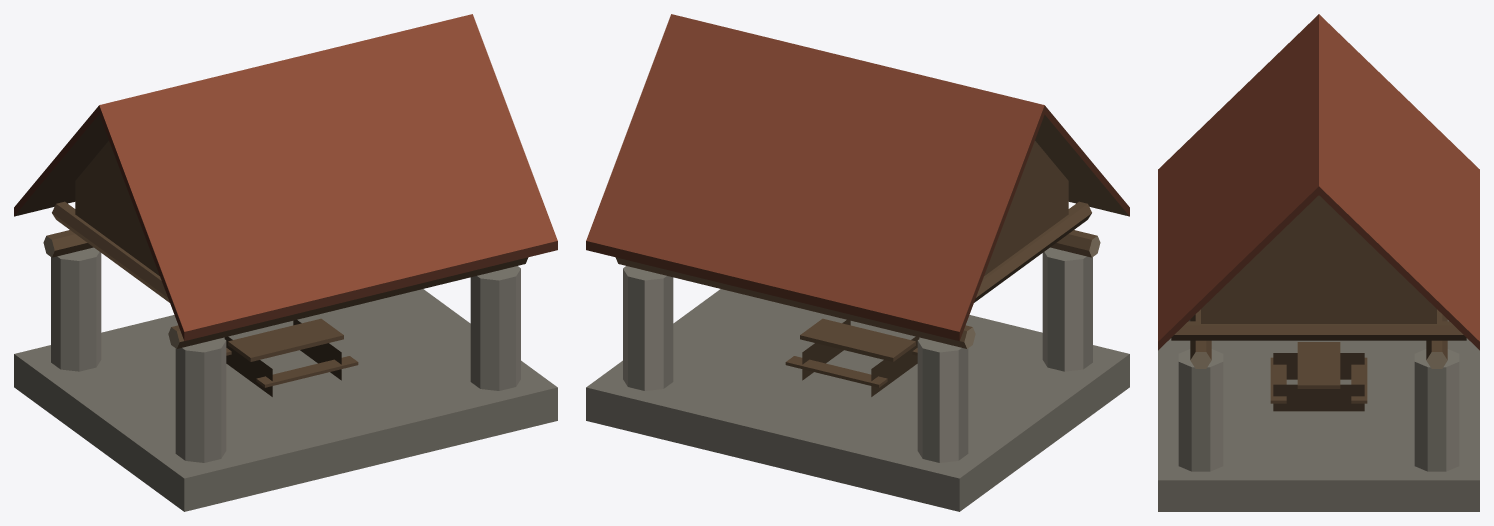
Rendered from wm-shelter.glb.
The picture shows the model from 3 angles, left to right: view 1: azimuth 30°, elevation 25°; view 2: azimuth 150°, elevation 25°; view 3: azimuth 270°, elevation 25°; orthographic projection. The views are drawn at different scales.
Parts seen in each view (by area): view 1: WestMountainShelter; view 2: WestMountainShelter; view 3: WestMountainShelter.
Part boxes in pixels (x1,y1,x2,y2): WestMountainShelter: (14, 14, 557, 511); WestMountainShelter: (586, 14, 1129, 511); WestMountainShelter: (1158, 14, 1479, 511).
Bounding box in the file's own units: 7.6 × 6.7 × 6.
